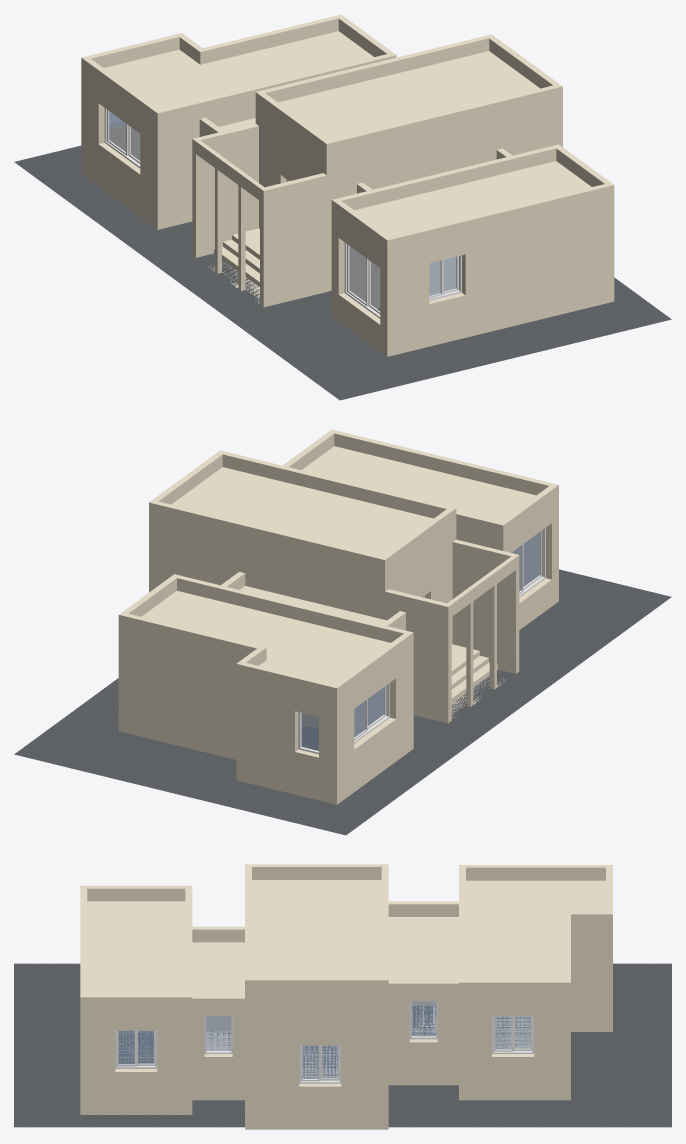
The picture shows the model from 3 angles, top to bottom: view 1: azimuth 30°, elevation 25°; view 2: azimuth 150°, elevation 25°; view 3: azimuth 270°, elevation 25°; orthographic projection.
Parts seen in each view (by area): view 1: 8150, 34833, Root Node, 8160, 10618, 10608, 34972, 35183, 9321, Component#1; view 2: 8160, 8150, Root Node, 10618, 34833, 10608, 34972, 35183, 9321, 10628, Component#2; view 3: Root Node, 8150, 8160, 34833, 10618, 10608, 34972, 8170, 34843, Component#1 (×3), 10628, 34982 (+1 smaller).
Boxes of the visible parts, x1,y1,x2,y2 form: 8150: [192, 34, 562, 307]; 34833: [331, 144, 614, 356]; Root Node: [14, 145, 671, 400]; 8160: [81, 14, 396, 229]; 10618: [278, 51, 539, 139]; 10608: [104, 31, 373, 109]; 34972: [354, 161, 591, 236]; 35183: [344, 242, 380, 318]; 9321: [104, 108, 140, 168]; Component#1: [429, 255, 461, 300]; 8160: [118, 574, 413, 804]; 8150: [149, 450, 519, 723]; Root Node: [14, 569, 671, 835]; 10618: [172, 467, 433, 555]; 34833: [283, 429, 558, 629]; 10608: [141, 591, 390, 684]; 34972: [302, 446, 535, 521]; 35183: [511, 527, 545, 597]; 9321: [354, 683, 389, 743]; 10628: [240, 586, 386, 624]; Component#2: [298, 712, 318, 754]; Root Node: [14, 963, 671, 1127]; 8150: [245, 864, 388, 1129]; 8160: [459, 865, 612, 1100]; 34833: [80, 885, 192, 1114]; 10618: [252, 880, 381, 977]; 10608: [466, 880, 605, 979]; 34972: [87, 901, 185, 994]; 8170: [388, 901, 458, 1085]; 34843: [192, 926, 244, 1100]; Component#1 (×3): [115, 1016, 534, 1083]; 10628: [388, 917, 458, 980]; 34982: [192, 942, 244, 995].
Bounding box in the file's own units: 11.22 × 4.7 × 18.77.
Materials: 296 (1 with a texture image).
